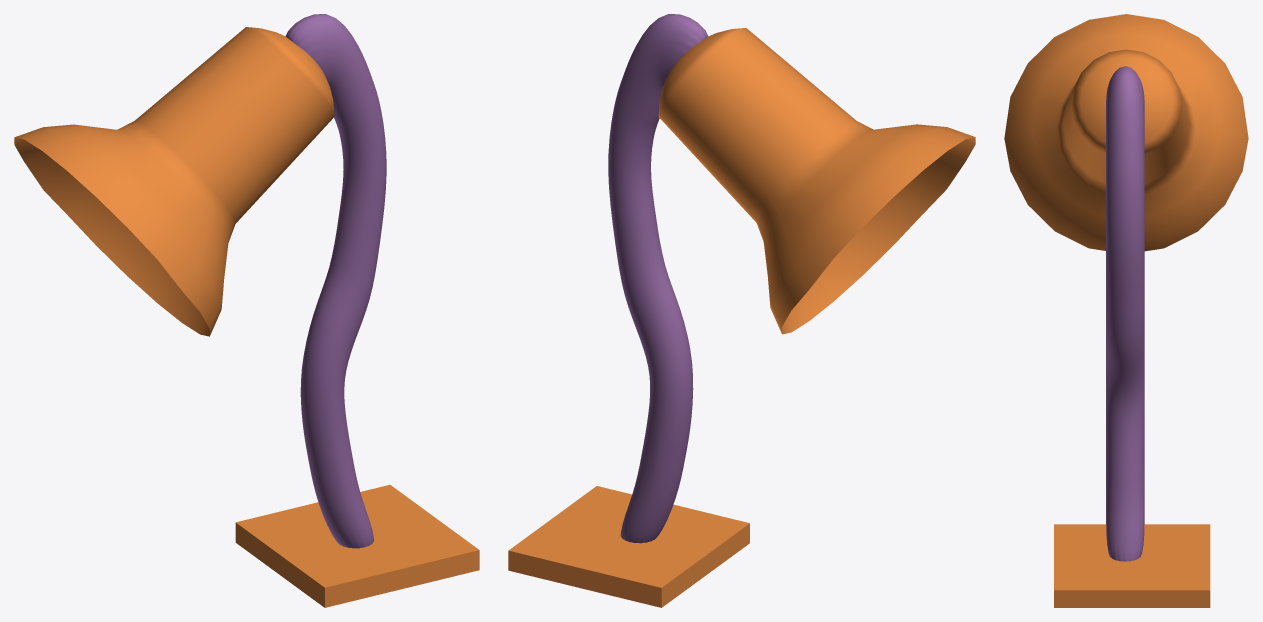
Rendered from lamp-game.fbx.
The picture shows the model from 3 angles, left to right: view 1: azimuth 30°, elevation 25°; view 2: azimuth 150°, elevation 25°; view 3: azimuth 270°, elevation 25°; orthographic projection. The views are drawn at different scales.
Parts seen in each view (by area): view 1: polySurface19; view 2: polySurface19; view 3: polySurface19.
Part boxes in pixels (<box>): polySurface19: <box>14,14,479,607</box>; polySurface19: <box>508,14,975,607</box>; polySurface19: <box>1004,14,1248,607</box>.
Size of the model in its own units: 3.84 by 5.14 by 2.35.
